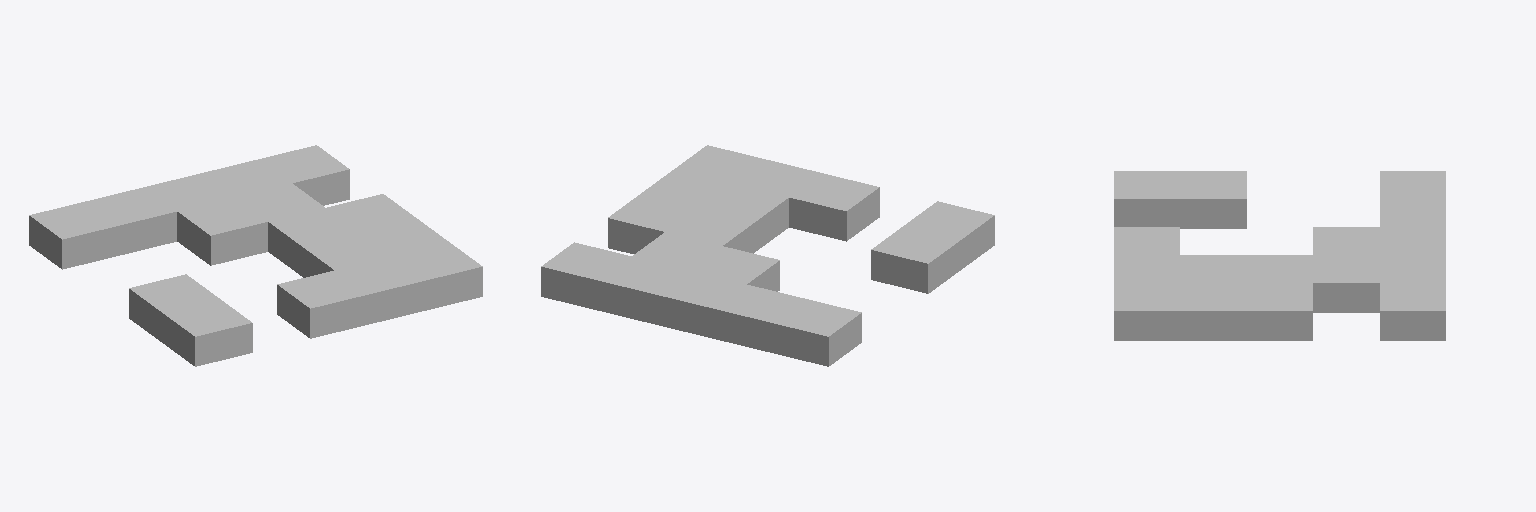
Rendered from 11s_block.obj.
3 renders of one model, left to right at view 1: azimuth 30°, elevation 25°; view 2: azimuth 150°, elevation 25°; view 3: azimuth 270°, elevation 25°, orthographic.
Parts seen in each view (by area): view 1: block.2.0_block.2895, block.0.4_block.2893, block.0.0_block.2891, block.2.3_block.2896, block.4.0_block.2903, block.1.4_block.2894, block.3.0_block.2898, block.4.4_block.2907, block.3.2_block.2900, block.0.1_block.2892, block.3.1_block.2899, block.2.4_block.2897 (+4 smaller); view 2: block.2.0_block.2895, block.0.1_block.2892, block.0.4_block.2893, block.4.4_block.2907, block.2.4_block.2897, block.1.4_block.2894, block.3.4_block.2902, block.4.2_block.2905, block.0.0_block.2891, block.3.1_block.2899, block.3.2_block.2900, block.2.3_block.2896 (+4 smaller); view 3: block.0.1_block.2892, block.3.3_block.2901, block.4.1_block.2904, block.4.0_block.2903, block.4.2_block.2905, block.4.4_block.2907, block.0.0_block.2891, block.2.3_block.2896, block.3.1_block.2899, block.0.4_block.2893, block.1.4_block.2894, block.2.0_block.2895 (+4 smaller).
Boxes of the visible parts, <box> form: block.2.0_block.2895: <box>277,270,367,338</box>; block.0.4_block.2893: <box>29,201,119,269</box>; block.0.0_block.2891: <box>162,298,252,366</box>; block.2.3_block.2896: <box>177,198,267,265</box>; block.4.0_block.2903: <box>392,242,482,310</box>; block.1.4_block.2894: <box>87,187,176,254</box>; block.3.0_block.2898: <box>335,257,424,324</box>; block.4.4_block.2907: <box>260,145,349,205</box>; block.3.2_block.2900: <box>268,208,357,275</box>; block.0.1_block.2892: <box>129,274,218,341</box>; block.3.1_block.2899: <box>301,232,391,277</box>; block.2.4_block.2897: <box>145,173,234,210</box>; block.2.0_block.2895: <box>789,173,879,241</box>; block.0.1_block.2892: <box>871,226,961,293</box>; block.0.4_block.2893: <box>771,298,861,366</box>; block.4.4_block.2907: <box>541,242,631,310</box>; block.2.4_block.2897: <box>656,270,746,338</box>; block.1.4_block.2894: <box>714,285,803,352</box>; block.3.4_block.2902: <box>599,257,688,324</box>; block.4.2_block.2905: <box>608,194,696,253</box>; block.0.0_block.2891: <box>904,201,994,268</box>; block.3.1_block.2899: <box>699,183,788,250</box>; block.3.2_block.2900: <box>666,208,755,253</box>; block.2.3_block.2896: <box>690,246,779,291</box>; block.0.1_block.2892: <box>1180,171,1246,228</box>; block.3.3_block.2901: <box>1313,255,1379,312</box>; block.4.1_block.2904: <box>1180,283,1246,340</box>; block.4.0_block.2903: <box>1114,283,1179,340</box>; block.4.2_block.2905: <box>1247,283,1312,340</box>; block.4.4_block.2907: <box>1380,283,1445,340</box>; block.0.0_block.2891: <box>1114,171,1179,226</box>; block.2.3_block.2896: <box>1313,227,1379,254</box>; block.3.1_block.2899: <box>1180,255,1246,282</box>; block.0.4_block.2893: <box>1380,171,1445,198</box>; block.1.4_block.2894: <box>1380,199,1445,226</box>; block.2.0_block.2895: <box>1114,227,1179,254</box>.
Bounding box in the file's own units: 10 × 1 × 10.